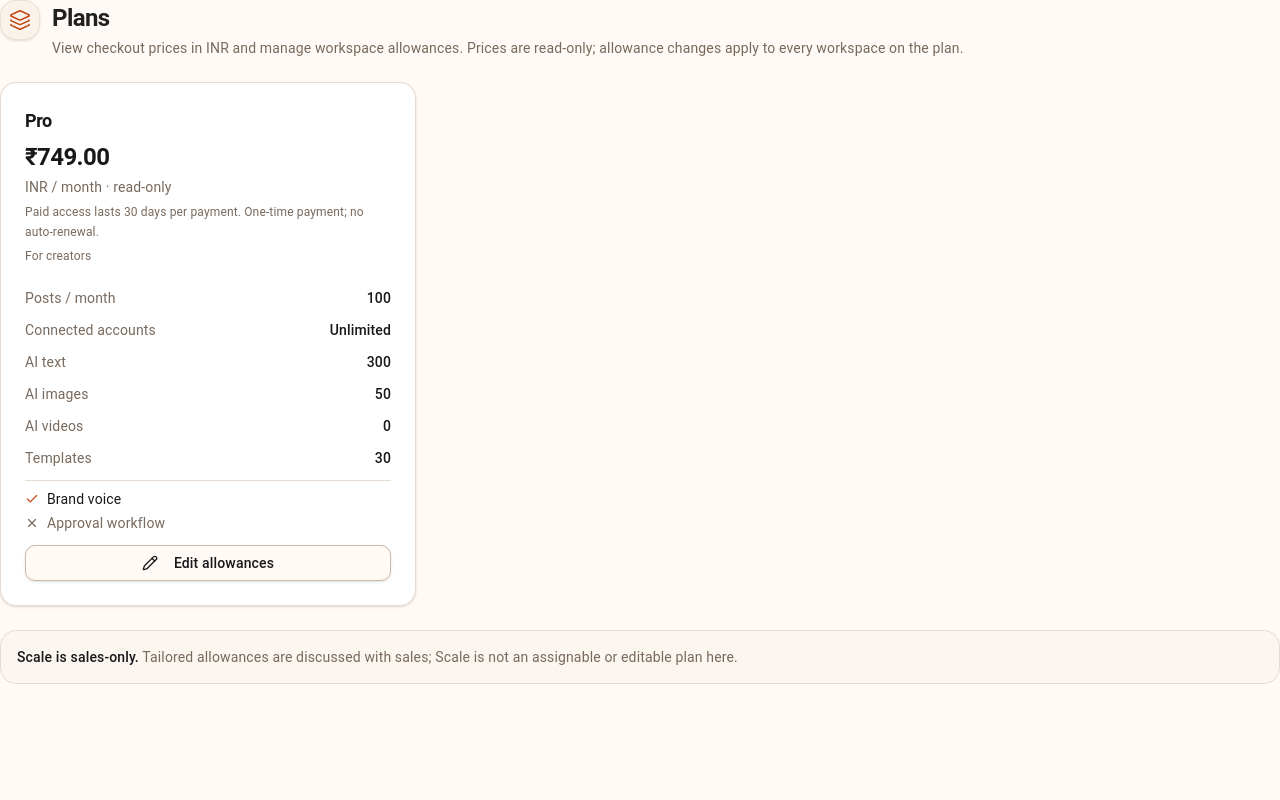
Scenario: AdminPricing › clears drafts and reloads on a new session for other-admin
The image size is (1280, 800).
Earlier steps of the test are not shown.
Click the button with aria-label "Edit Pro allowances" at (208, 563), box x1=25 y1=545 x2=391 y2=581
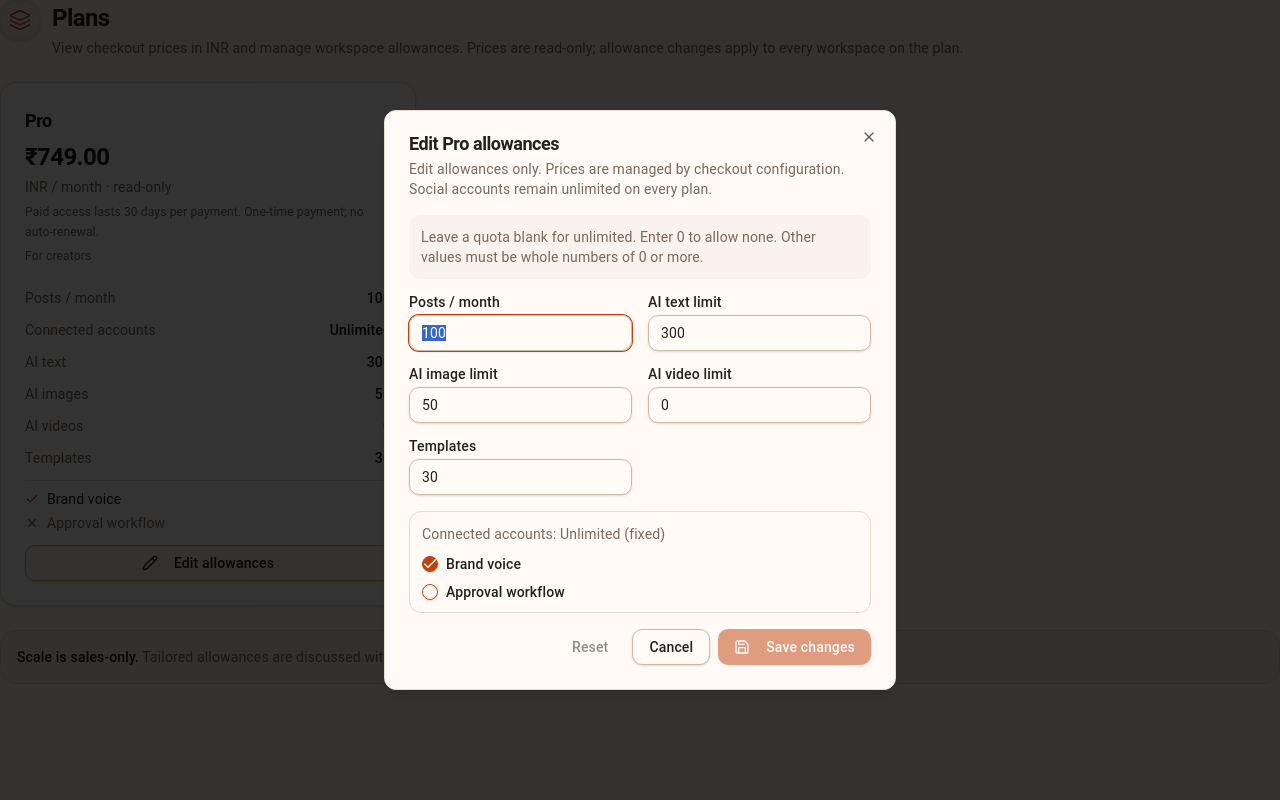
Now the field labelled "Posts / month" holds "100", box x1=409 y1=315 x2=632 y2=351
